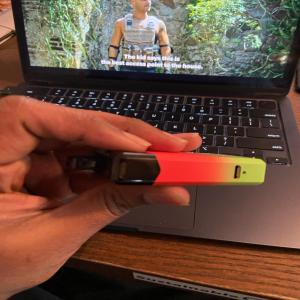Swift-E-Ciggirate: (63, 152, 278, 187)
